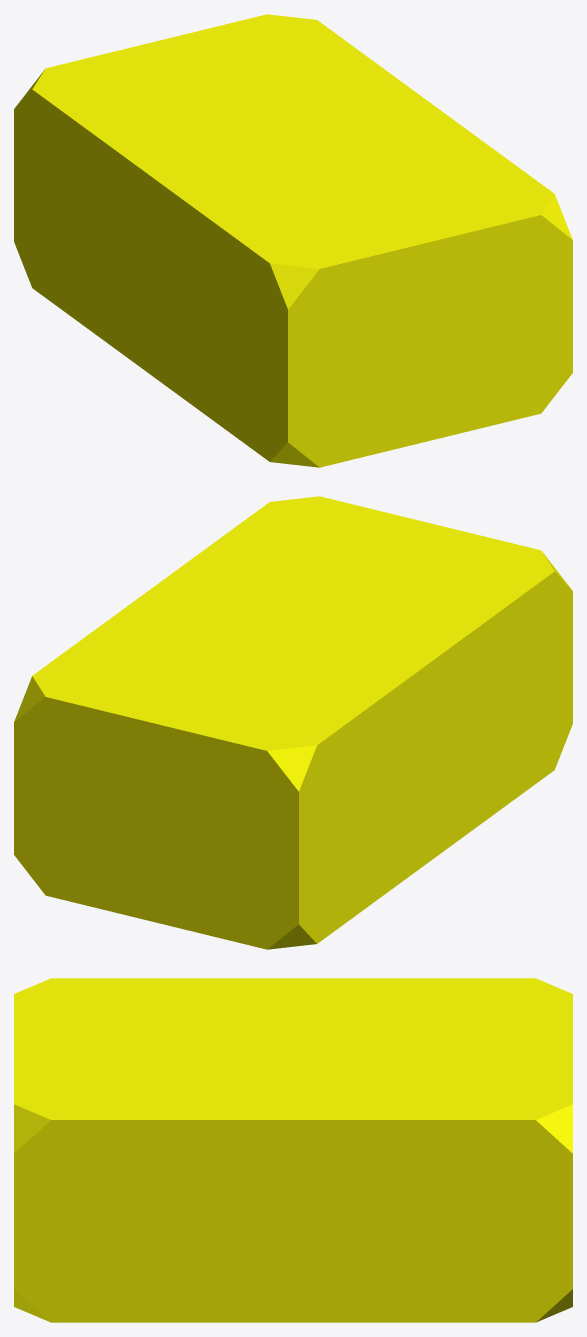
Rendered from kaykit-stone-brick.glb.
The picture shows the model from 3 angles, top to bottom: view 1: azimuth 30°, elevation 25°; view 2: azimuth 150°, elevation 25°; view 3: azimuth 270°, elevation 25°; orthographic projection.
Visible parts, largest first — view 1: Stone_Brick; view 2: Stone_Brick; view 3: Stone_Brick.
Boxes of the visible parts, x1,y1,x2,y2 form: Stone_Brick: (14, 14, 572, 467); Stone_Brick: (14, 496, 572, 949); Stone_Brick: (14, 978, 572, 1322).
Size of the model in its own units: 0.45 by 0.3 by 0.75.
